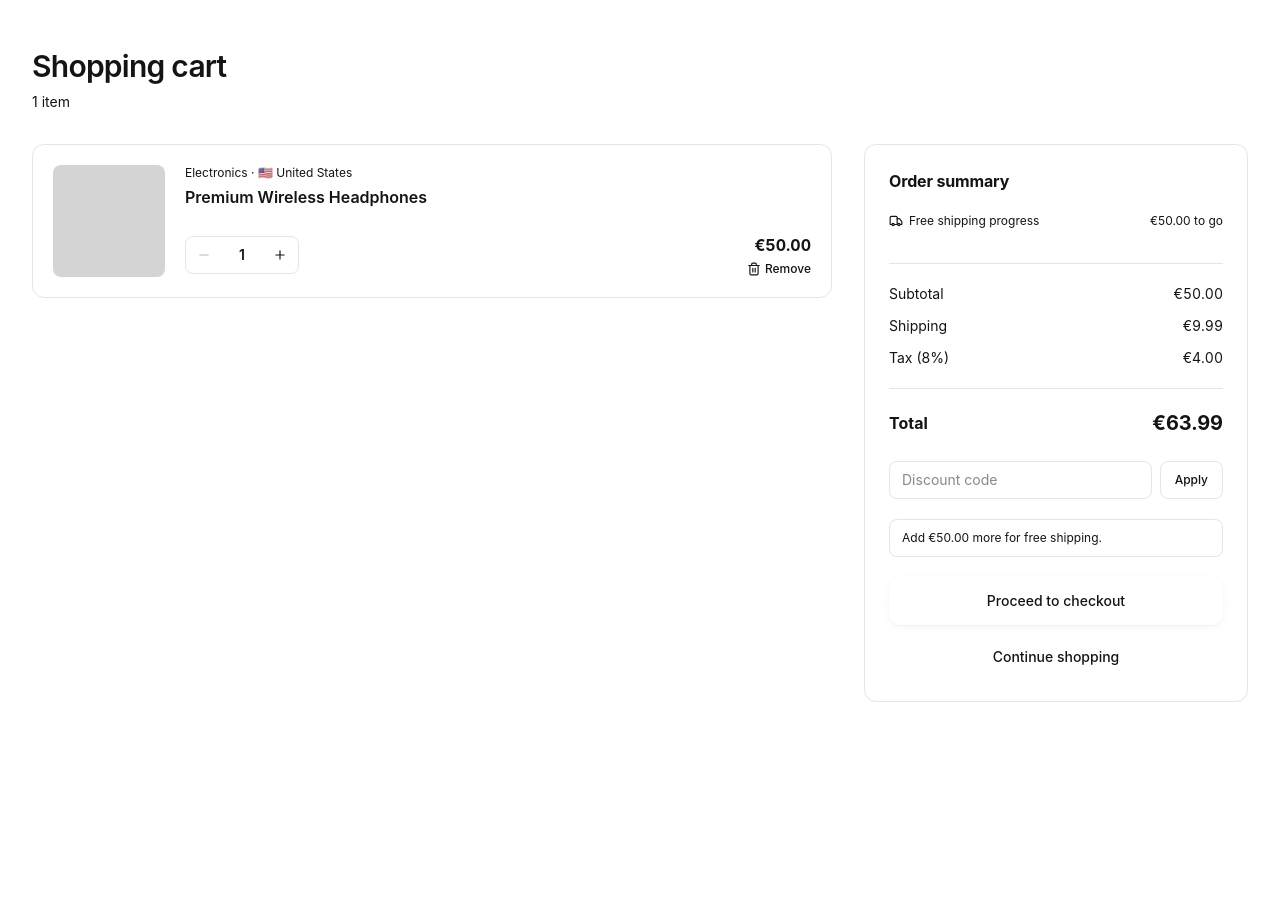
Test: Cart page › lets quantity grow when below the stock cap
Expected: the heading "Premium Wireless Headphones" is shown, [185, 187, 427, 207]
Click the button named "Increase quantity".
click(280, 255)  # box [262, 237, 298, 273]
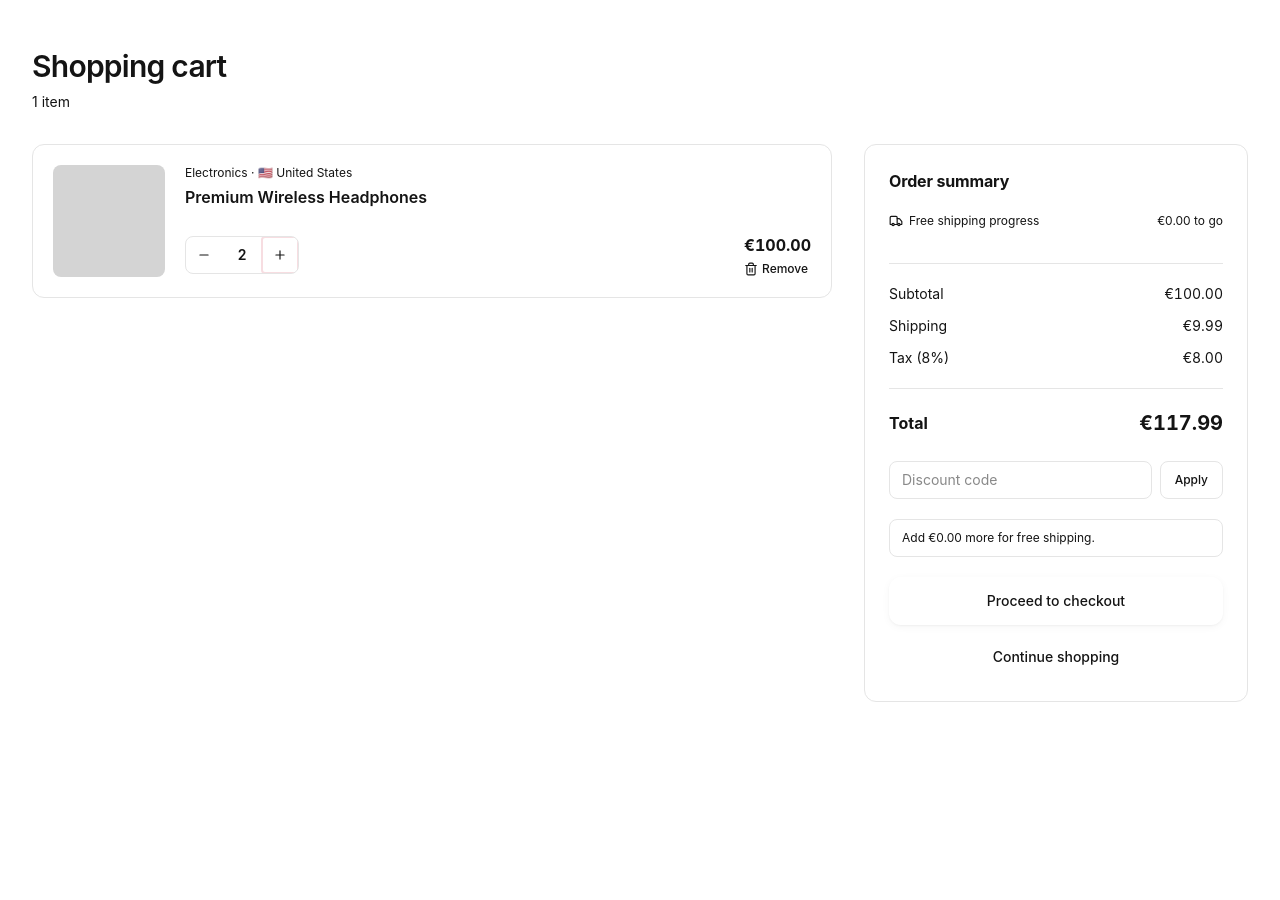
Expected: the text "2" is shown, [238, 246, 246, 263]
